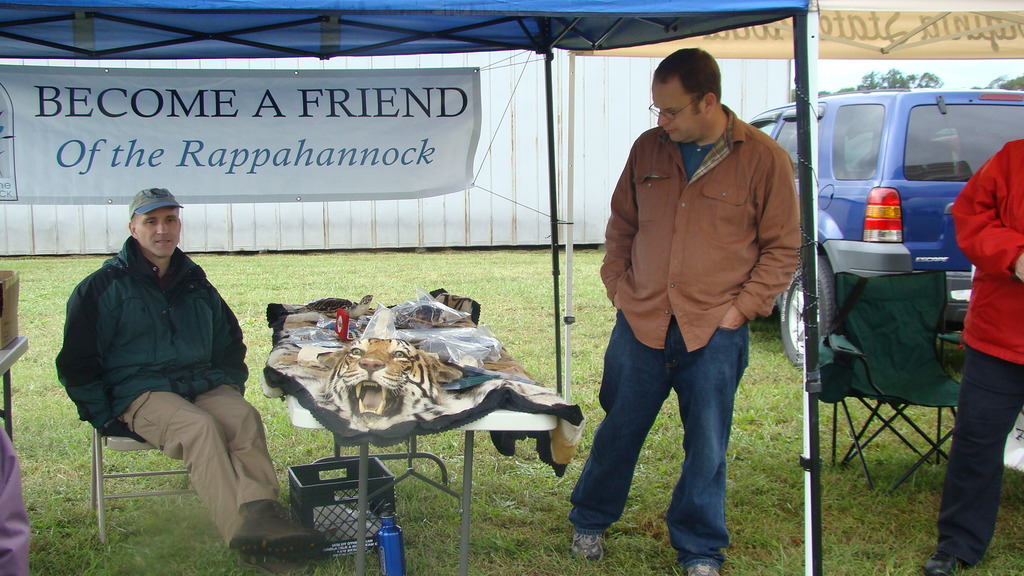Footwear: (236, 502, 326, 564), (568, 506, 625, 563), (241, 552, 316, 575), (927, 547, 965, 575), (687, 559, 723, 575)
